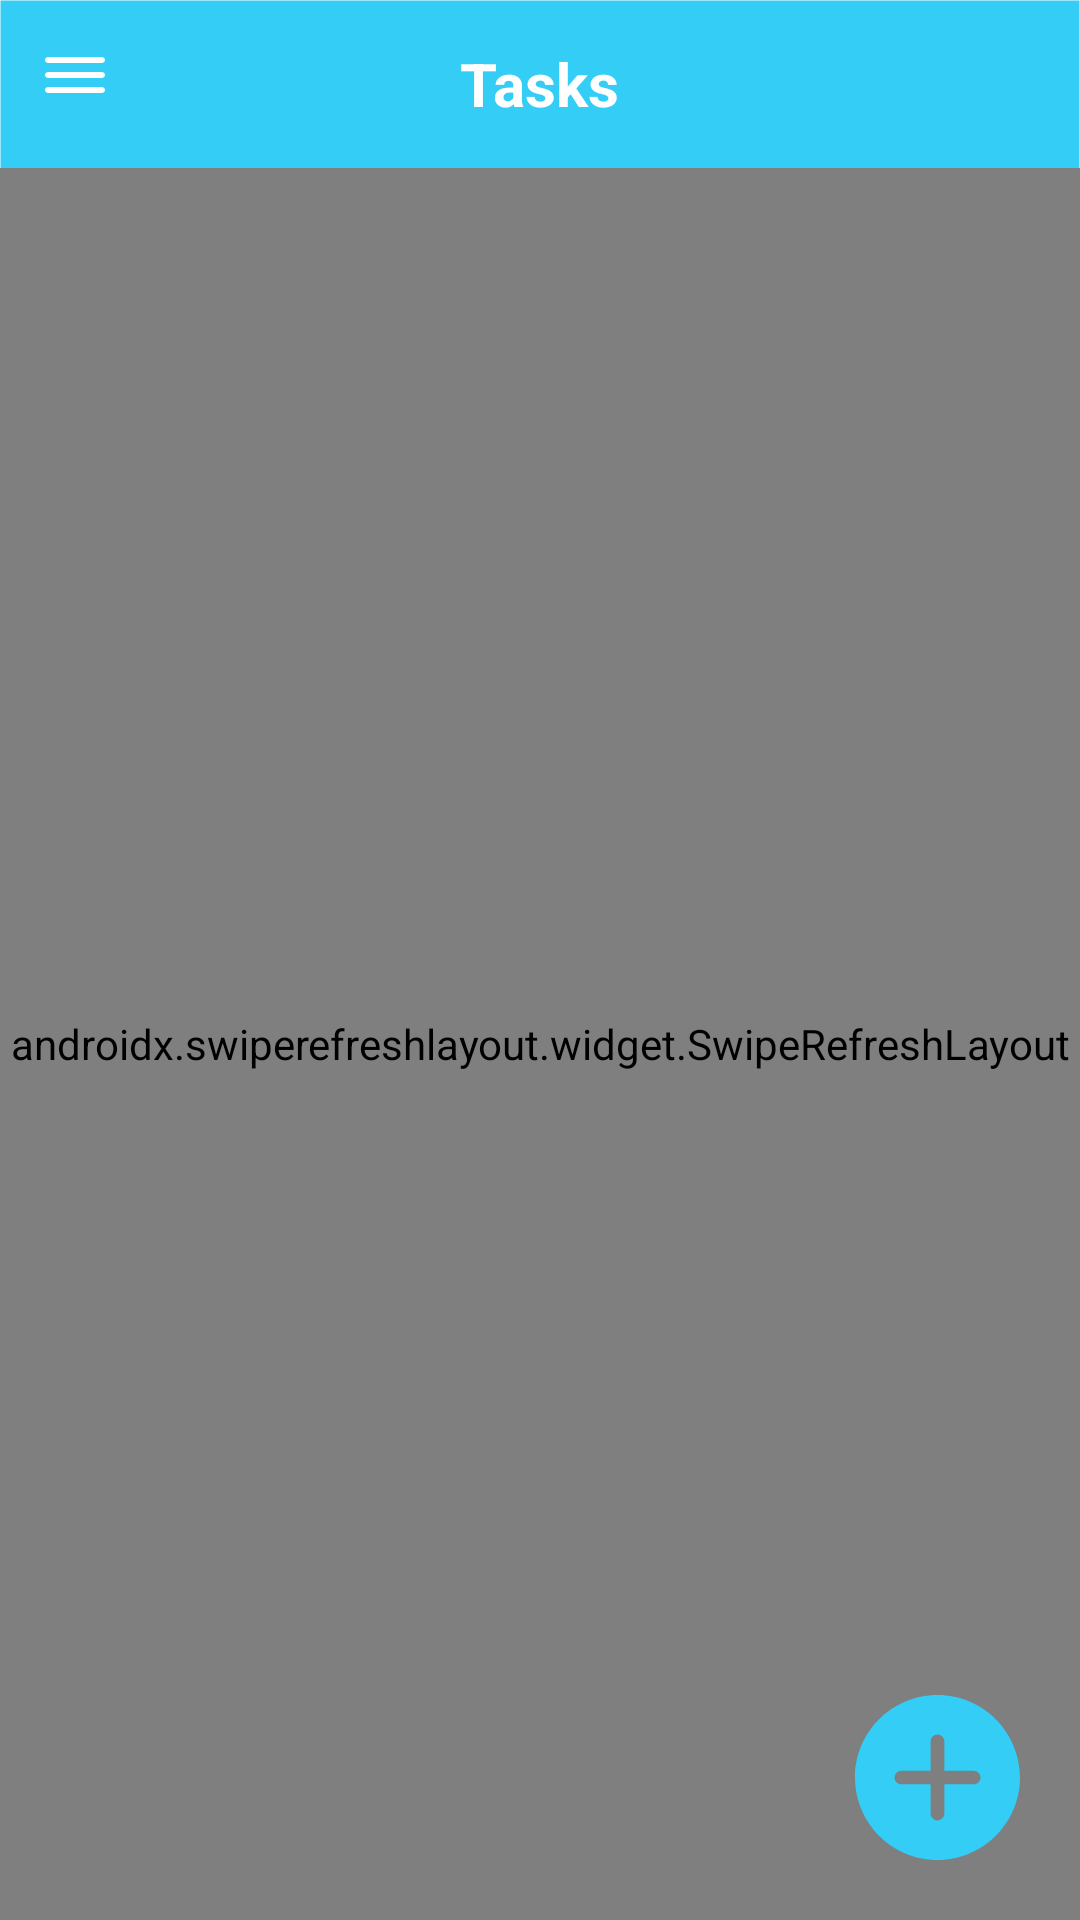

Icon bounding boxes for this 1080x1920 phone screenshot, format region(x1, y1, x2, y2):
add: region(855, 1695, 1020, 1860)
menu: region(45, 57, 105, 93)
